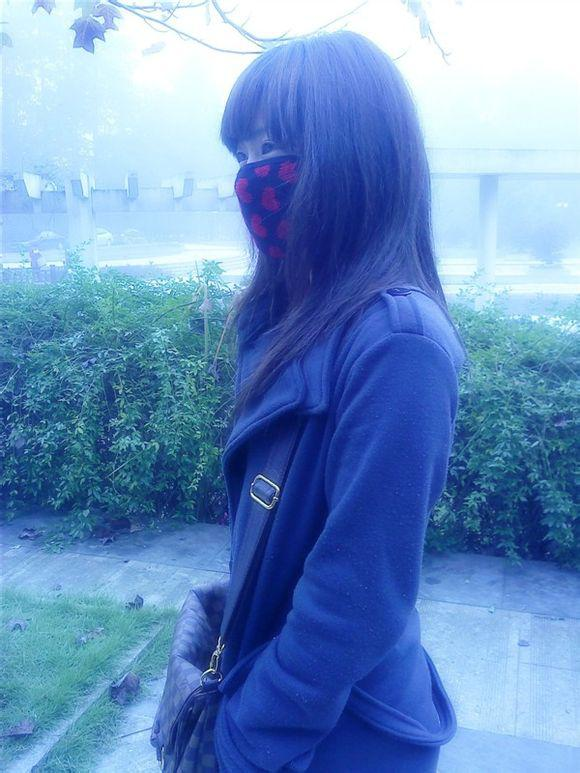OK: (223, 126, 348, 251)
